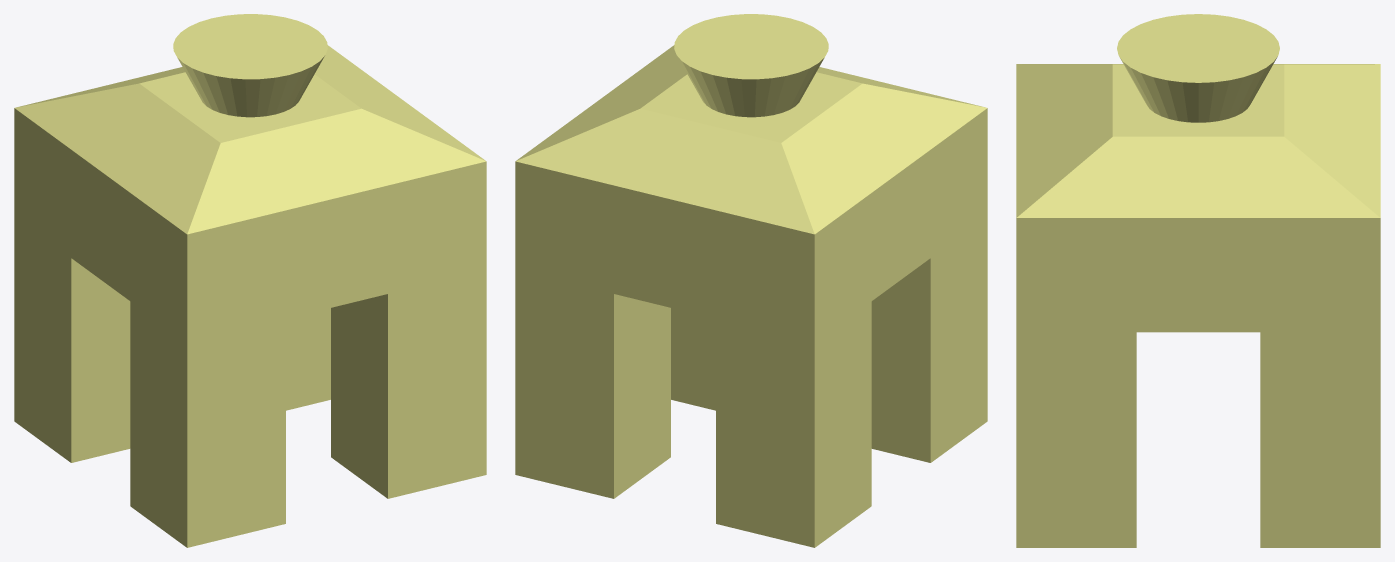
File: launcher.fbx
The picture shows the model from 3 angles, left to right: view 1: azimuth 30°, elevation 25°; view 2: azimuth 150°, elevation 25°; view 3: azimuth 270°, elevation 25°; orthographic projection. The views are drawn at different scales.
Visible parts, largest first — view 1: launcher; view 2: launcher; view 3: launcher.
Part boxes in pixels (left/top/right/bottom): launcher: left=14, top=14, right=486, bottom=547; launcher: left=515, top=14, right=987, bottom=547; launcher: left=1016, top=14, right=1380, bottom=547.
Bounding box in the file's own units: 200 × 256 × 200.
